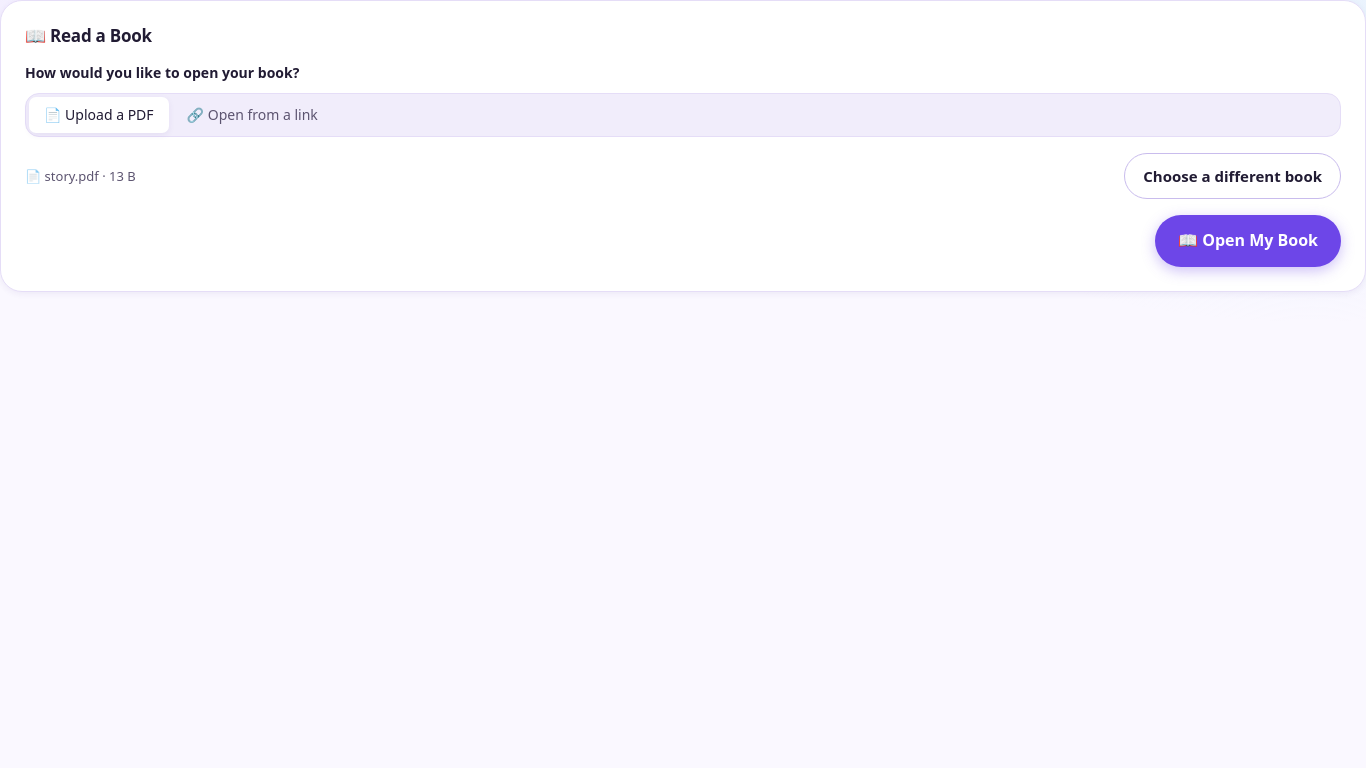
Scenario: BookReaderForm › accepts a PDF dropped onto the dropzone, not just one picked via the dialog
Earlier steps of the test are not shown.
Expected: the text "📄 story.pdf · 13 B" is shown, left=25, top=166, right=136, bottom=186
Step 1. Click the button with test id "load-book-submit" → click(1248, 241), box left=1155, top=215, right=1341, bottom=267
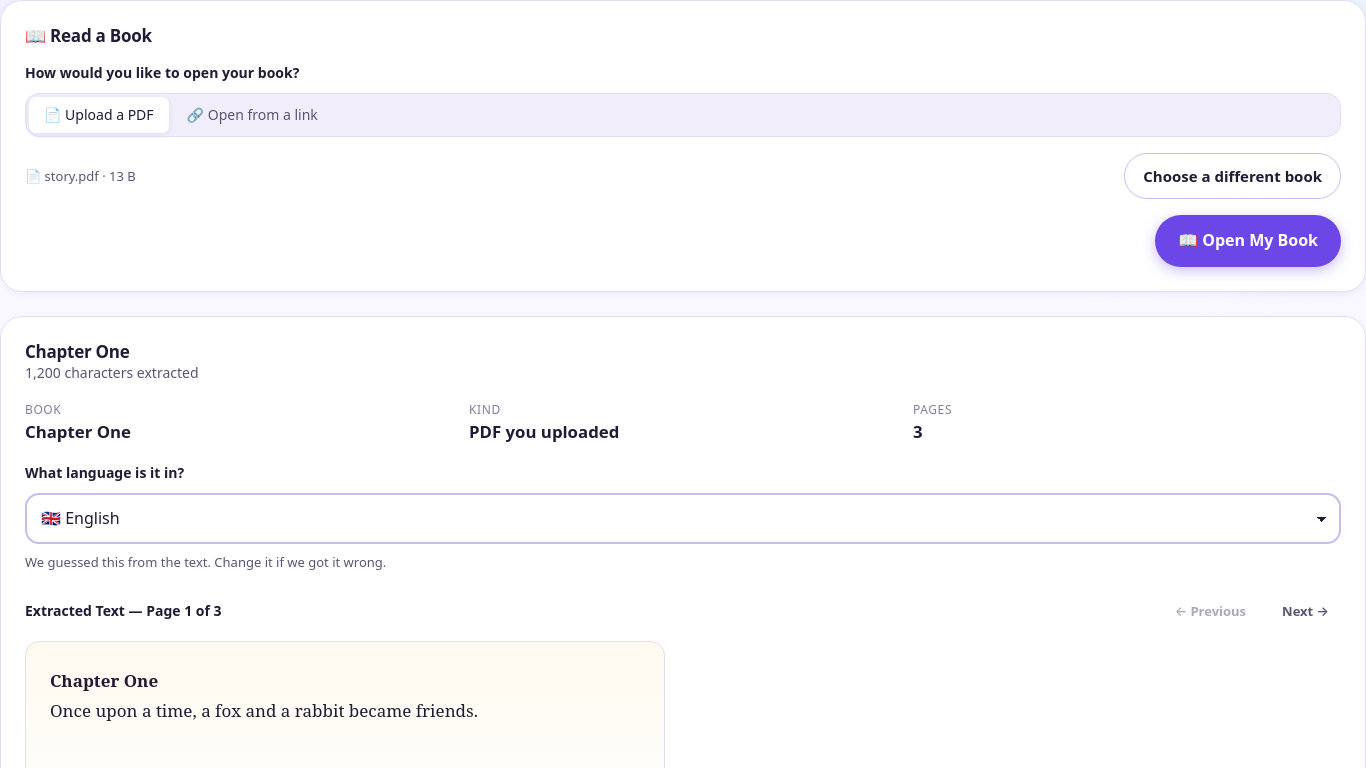
Expected: the heading "Chapter One" is shown, left=25, top=340, right=130, bottom=363
